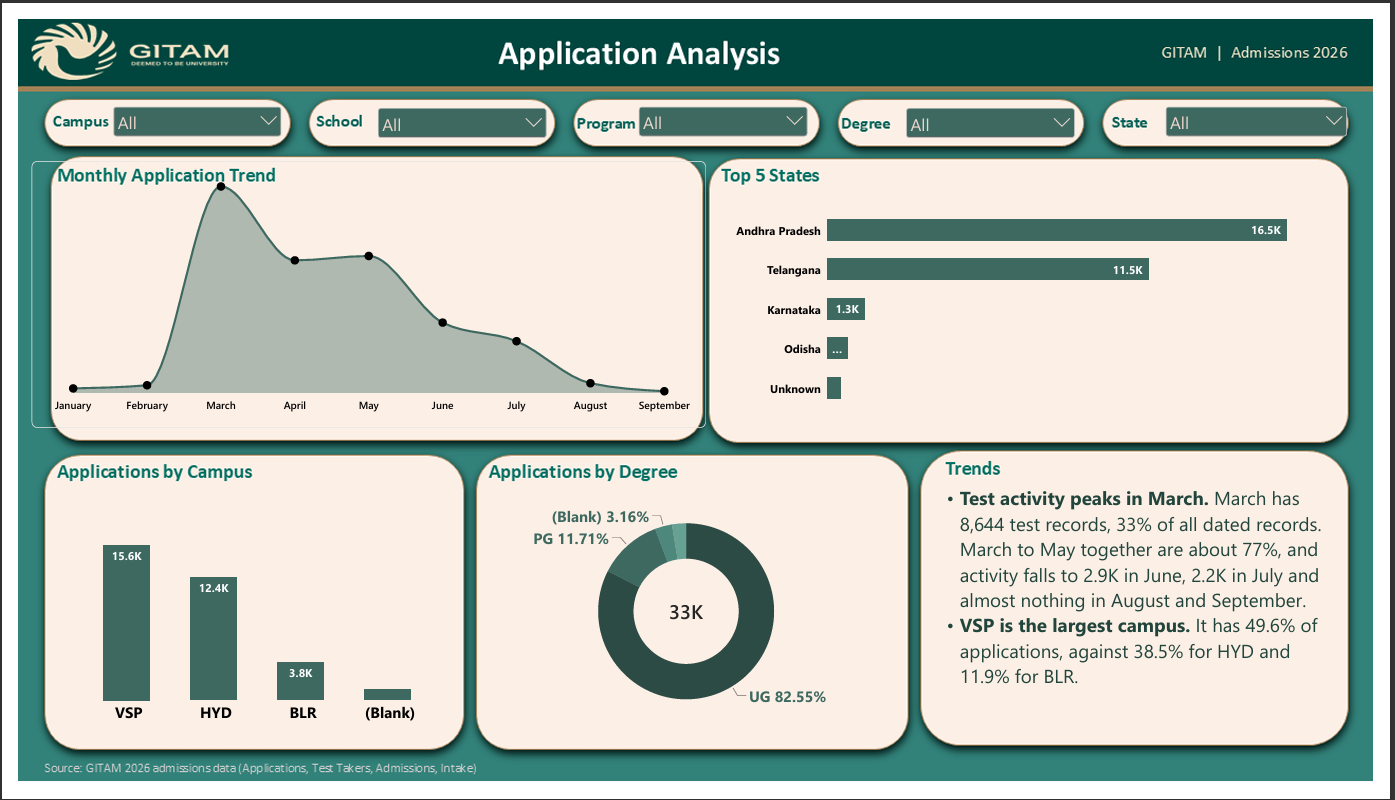

What the dashboard file says about the page in this screenshot:
{"tool":"powerbi","page":{"name":"Application Analysis","canvas":[1920,1080],"ordinal":2},"visuals":[{"type":"lineChart","fields":{"Category":["Test_Takers.Month Start.Variation.Date Hierarchy.Month"],"Y":["Measure.Test Takers"]},"box":[18,200,956,378],"z":0},{"type":"clusteredBarChart","fields":{"Category":["Applications.State"],"Y":["Measure.Total Applications"]},"box":[1000,238,874,340],"z":1000},{"type":"clusteredColumnChart","fields":{"Category":["Intake.Campus"],"Y":["Measure.Total Applications"]},"box":[54,660,574,358],"z":2000},{"type":"donutChart","fields":{"Category":["Intake.Degree"],"Y":["Measure.Total Applications"]},"box":[644,660,604,358],"z":3000},{"type":"slicer","fields":{"Values":["Intake.Campus"]},"box":[128.8,117.8,248.5,57.1],"z":3001},{"type":"slicer","fields":{"Values":["Intake.Program"]},"box":[874.2,117.8,248.5,57.1],"z":3002},{"type":"slicer","fields":{"Values":["Intake.School"]},"box":[504.3,119.6,248.5,57.1],"z":3003},{"type":"slicer","fields":{"Values":["Intake.Degree"]},"box":[1253.4,119.6,248.5,57.1],"z":3004},{"type":"slicer","fields":{"Values":["Applications.State"]},"box":[1621.5,117.8,266.9,57.1],"z":3005},{"type":"textbox","box":[1293.9,658.9,579.8,358.9],"z":3006}]}

Visuals, with their boxes in screenshot pixels (x1, y1, x2, y2), scaled from the page's 1920x1080 canvas onto the 1395x800 screenshot:
lineChart - Test_Takers.Month Start.Variation.Date Hierarchy.Month x Measure.Test Takers: BBox(13, 148, 708, 428)
clusteredBarChart - Applications.State x Measure.Total Applications: BBox(727, 176, 1362, 428)
clusteredColumnChart - Intake.Campus x Measure.Total Applications: BBox(39, 489, 456, 754)
donutChart - Intake.Degree x Measure.Total Applications: BBox(468, 489, 907, 754)
slicer - Intake.Campus: BBox(94, 87, 274, 130)
slicer - Intake.Program: BBox(635, 87, 816, 130)
slicer - Intake.School: BBox(366, 89, 547, 131)
slicer - Intake.Degree: BBox(911, 89, 1091, 131)
slicer - Applications.State: BBox(1178, 87, 1372, 130)
textbox: BBox(940, 488, 1361, 754)
